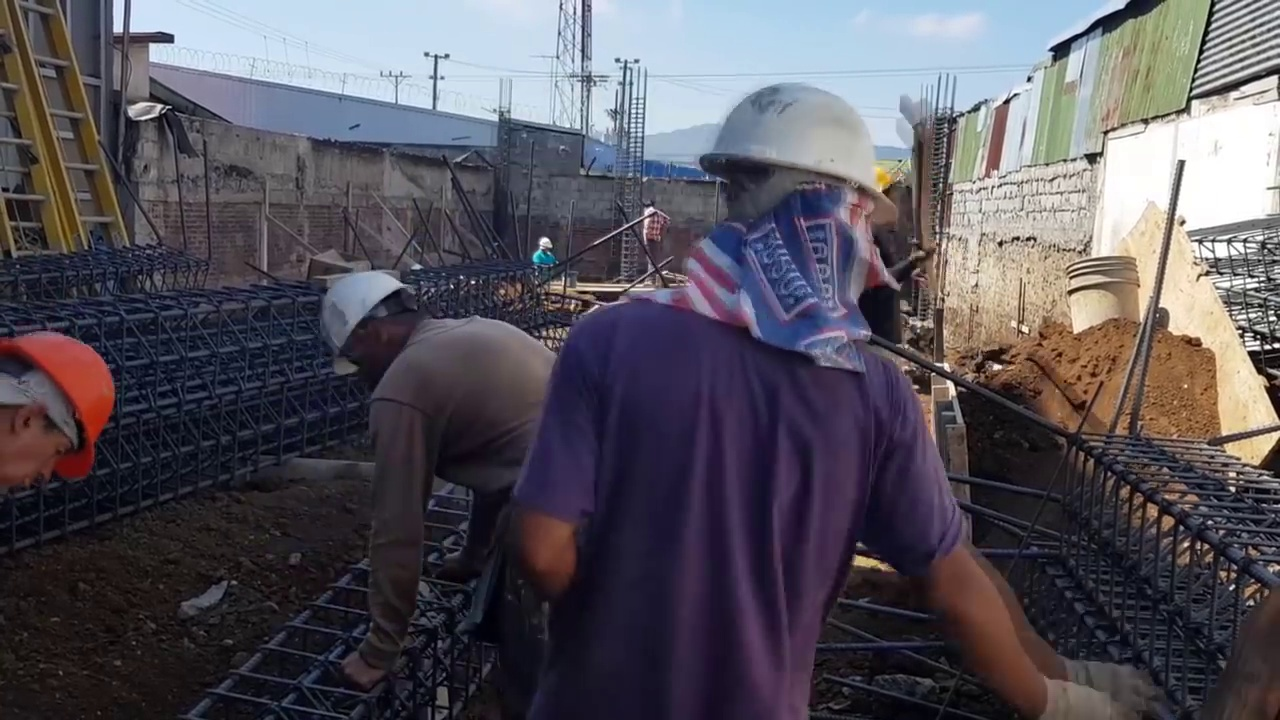helmet: (697, 81, 889, 202), (9, 336, 113, 485), (319, 273, 412, 373), (538, 237, 552, 249)
helmet-off: (641, 199, 656, 212)
helmet-on: (688, 81, 895, 340), (0, 328, 112, 506), (315, 260, 433, 389), (536, 237, 553, 253)
person: (507, 78, 1150, 720), (314, 254, 559, 692), (641, 199, 672, 282), (532, 238, 557, 284)
